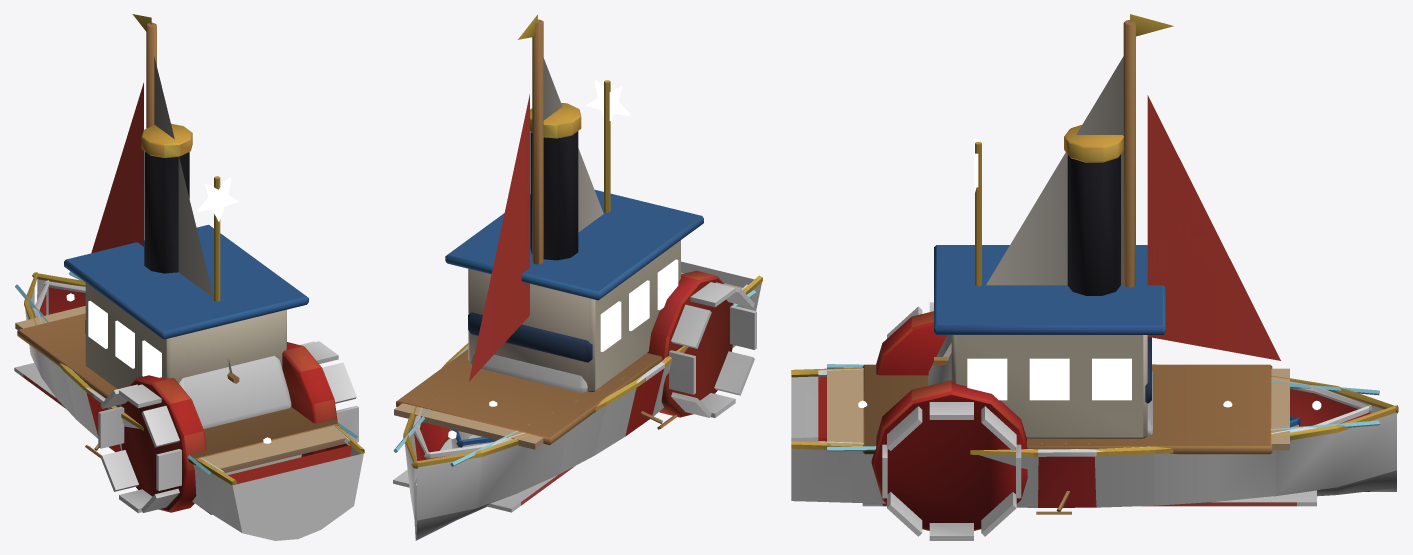
The model's file is items.glb.
The picture shows the model from 3 angles, left to right: view 1: azimuth 30°, elevation 25°; view 2: azimuth 150°, elevation 25°; view 3: azimuth 270°, elevation 25°; orthographic projection. The views are drawn at different scales.
Parts seen in each view (by area): view 1: boat_steamer, boat_yacht, boat_sailboat; view 2: boat_steamer, boat_yacht, boat_sailboat; view 3: boat_steamer, boat_yacht, boat_sailboat.
Boxes of the visible parts, x1,y1,x2,y2 form: boat_steamer: [17, 123, 358, 513]; boat_yacht: [14, 176, 364, 540]; boat_sailboat: [91, 14, 301, 474]; boat_steamer: [396, 103, 756, 505]; boat_yacht: [393, 80, 762, 540]; boat_sailboat: [450, 14, 603, 448]; boat_steamer: [818, 125, 1371, 540]; boat_yacht: [791, 139, 1398, 507]; boat_sailboat: [934, 14, 1300, 427].
Bounding box in the file's own units: 3 × 5.95 × 6.82.
